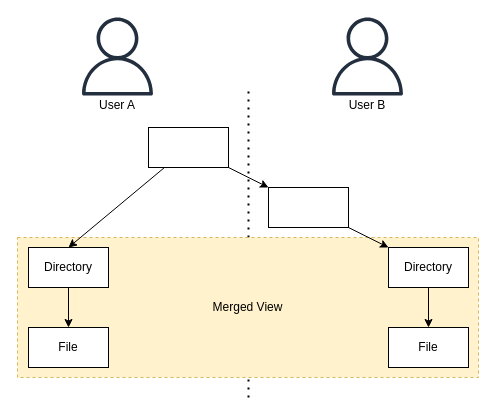
Image size: 496x416. Some labels were removed from this diagram. The centre of each missing label's shape, as x and y in pixels:
Pre-Shared Vertex: point (308, 207)
Space Root: point (188, 147)
